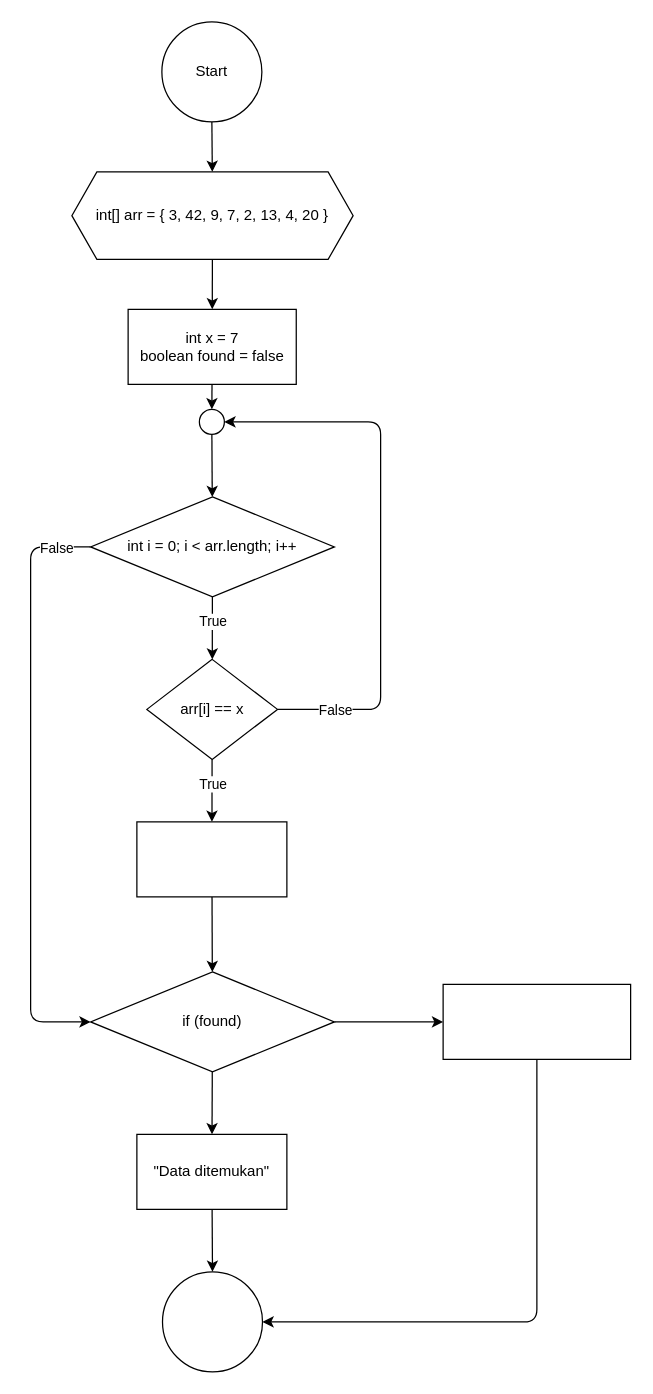
This 653x1394 diagram has some shape labels left out. Each missing label, with the centre of its shape:
"Data tidak ditemukan": (x=536, y=1021)
End: (x=211, y=1321)
found = true break: (x=211, y=859)
